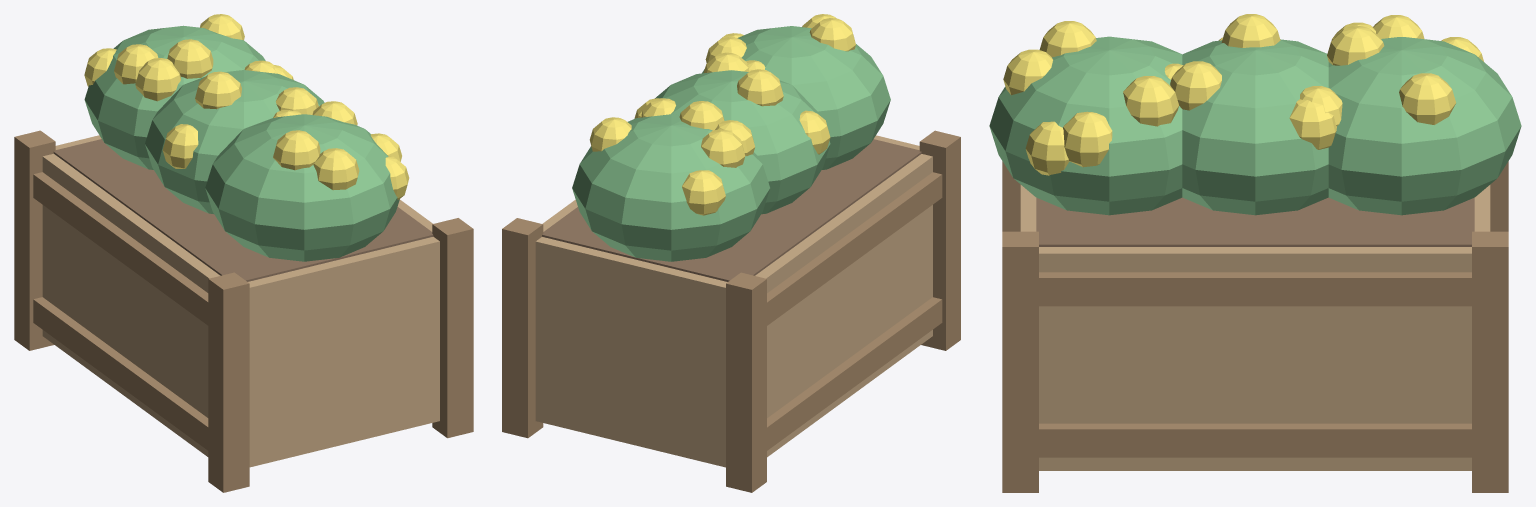
Rendered from Kerb_PlanterWood.fbx.
3 views of the same model, side by side, from view 1: azimuth 30°, elevation 25°; view 2: azimuth 150°, elevation 25°; view 3: azimuth 270°, elevation 25° (orthographic). The views are drawn at different scales.
Visible parts, largest first — view 1: Kerb_PlanterWood; view 2: Kerb_PlanterWood; view 3: Kerb_PlanterWood.
Boxes of the visible parts, bbox=[...] form: Kerb_PlanterWood: bbox=[14, 14, 473, 492]; Kerb_PlanterWood: bbox=[502, 14, 960, 492]; Kerb_PlanterWood: bbox=[989, 14, 1521, 492].
Bounding box in the file's own units: 0.67 × 0.8188 × 1.02.
